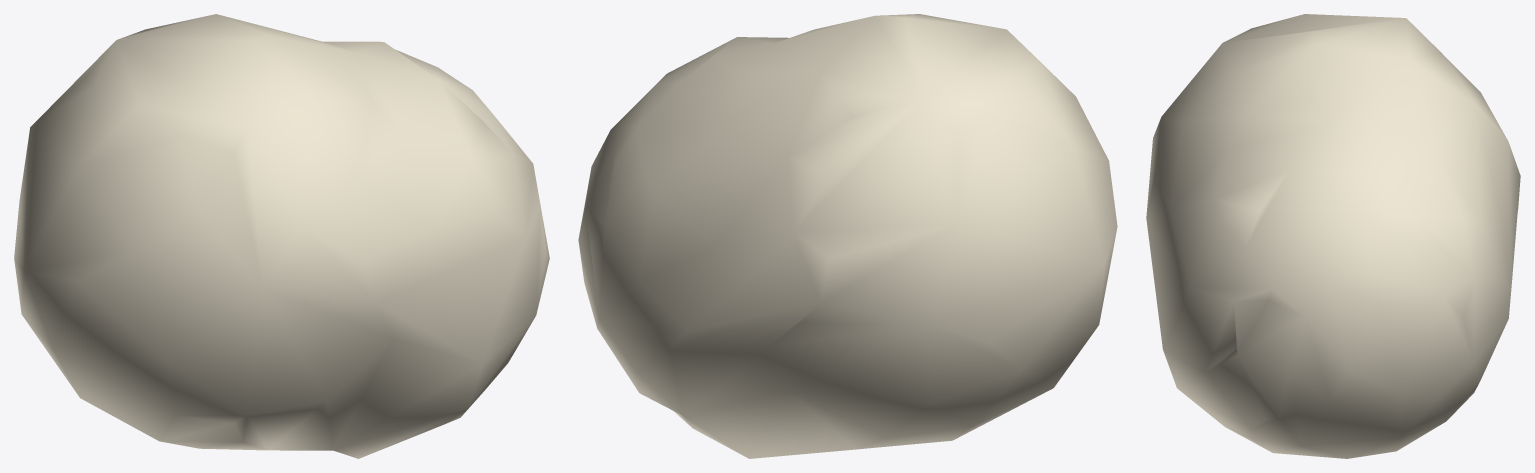
The model's file is caudal_1.glb.
3 views of the same model, side by side, from view 1: azimuth 30°, elevation 25°; view 2: azimuth 150°, elevation 25°; view 3: azimuth 270°, elevation 25° (orthographic). The views are drawn at different scales.
Parts seen in each view (by area): view 1: geometry_0; view 2: geometry_0; view 3: geometry_0.
Boxes of the visible parts, bbox=[...] form: geometry_0: bbox=[14, 14, 549, 458]; geometry_0: bbox=[578, 14, 1117, 458]; geometry_0: bbox=[1146, 14, 1520, 458].
Size of the model in its own units: 0.0738 by 0.0616 by 0.0559.
